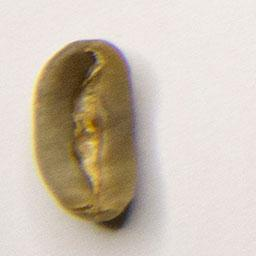longberry: (29, 36, 141, 224)
